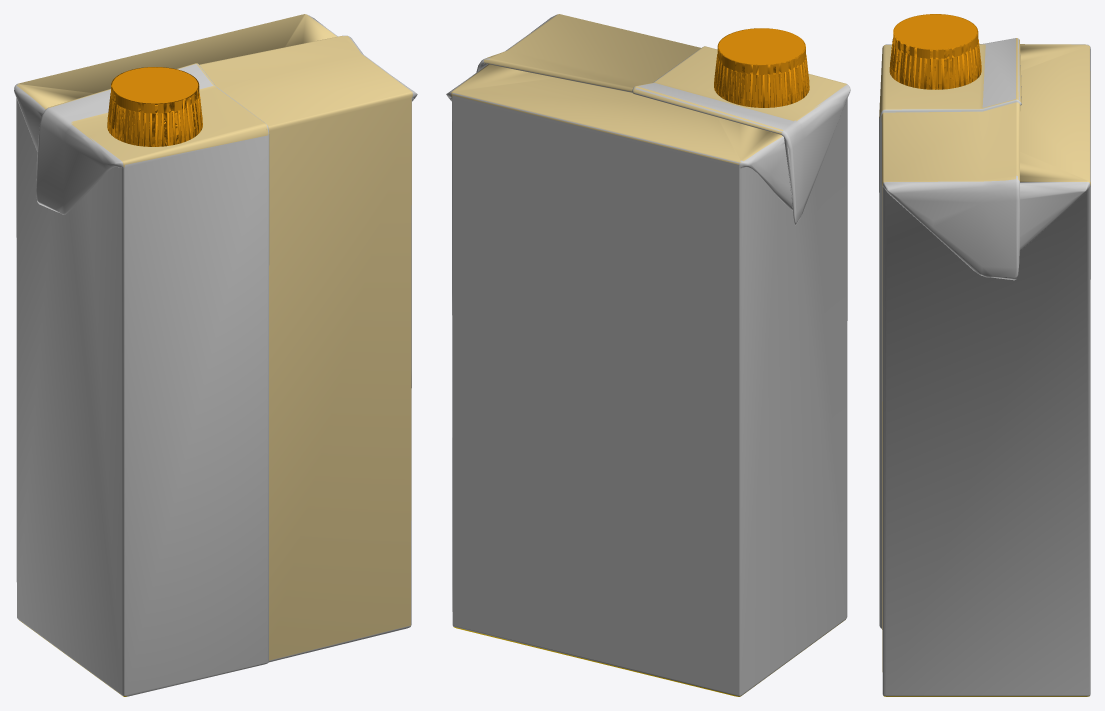
File: juice.dae
3 views of the same model, side by side, from view 1: azimuth 30°, elevation 25°; view 2: azimuth 150°, elevation 25°; view 3: azimuth 270°, elevation 25° (orthographic). The views are drawn at different scales.
Parts seen in each view (by area): view 1: Cube_002, bouchon_002, Couvercle_1_006; view 2: Cube_002, bouchon_002, Couvercle_1_006; view 3: Cube_002, bouchon_002, Couvercle_1_006.
Boxes of the visible parts, left/top/right/bottom form: Cube_002: left=14, top=14, right=417, bottom=696; bouchon_002: left=107, top=67, right=202, bottom=146; Couvercle_1_006: left=112, top=67, right=197, bottom=103; Cube_002: left=446, top=14, right=850, bottom=696; bouchon_002: left=714, top=28, right=809, bottom=107; Couvercle_1_006: left=718, top=28, right=804, bottom=64; Cube_002: left=879, top=38, right=1090, bottom=696; bouchon_002: left=889, top=14, right=981, bottom=89; Couvercle_1_006: left=894, top=14, right=976, bottom=49.
Bounding box in the file's own units: 0.1084 × 0.0637 × 0.1853.
